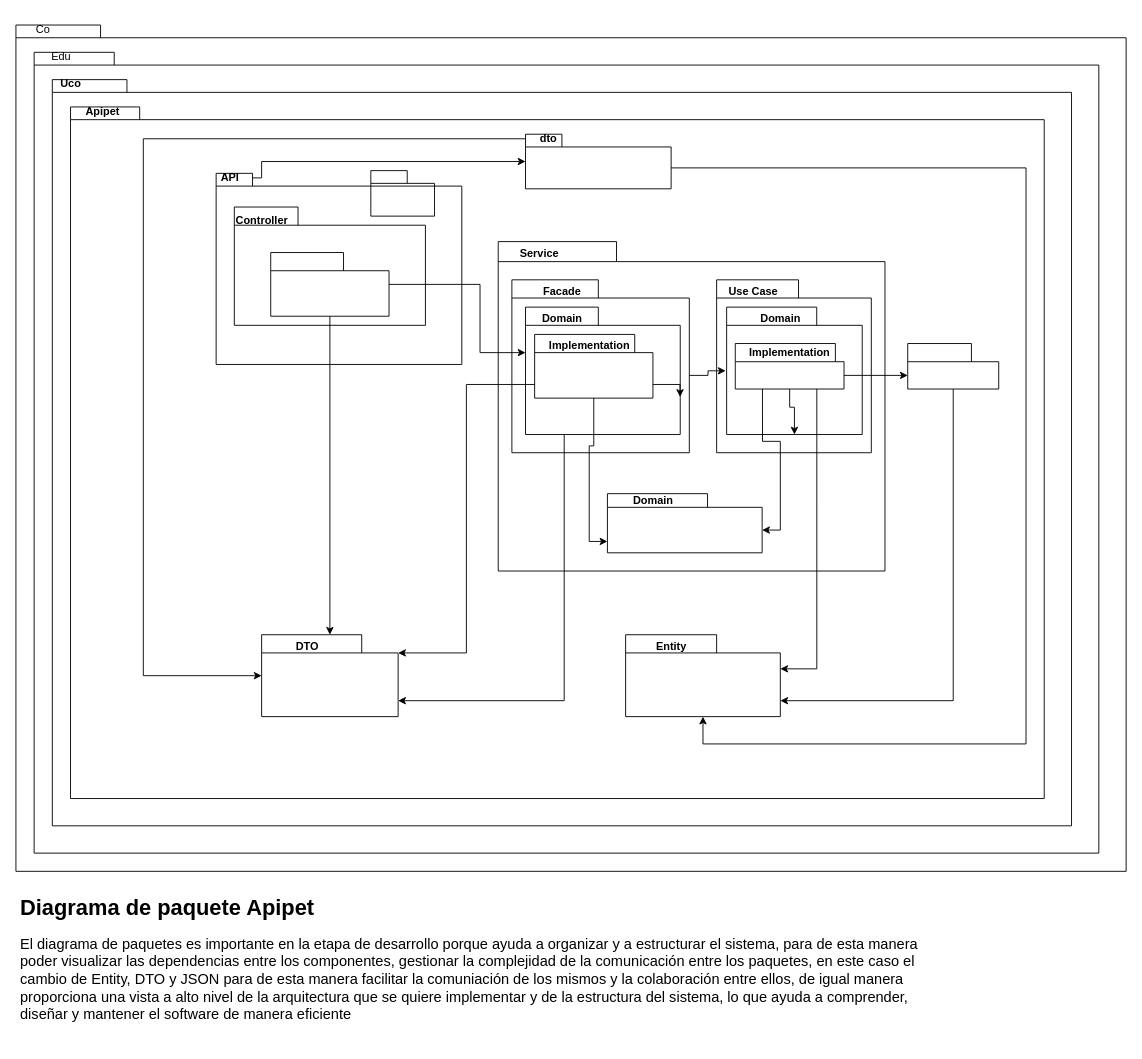
This 1142x1059 diagram has some shape labels left out. Each missing label, with the box of its shape:
<domain>: (270, 252, 389, 316)
init: (370, 170, 435, 216)
Repository: (907, 343, 999, 389)
